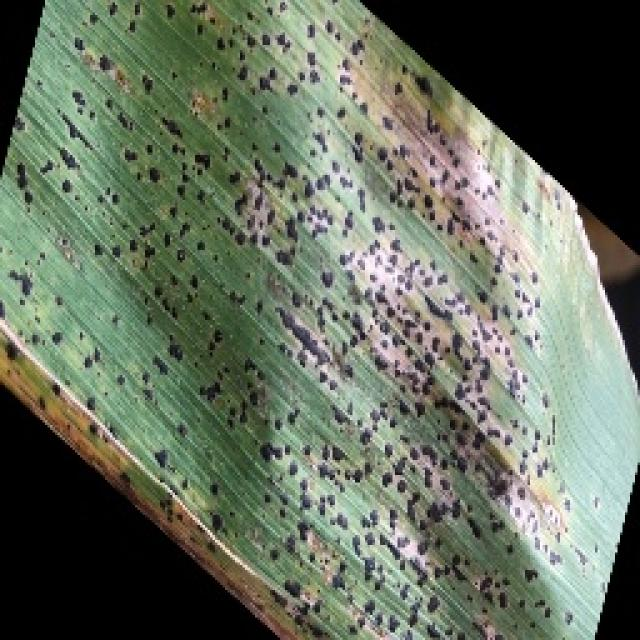Tar_Spot: (111, 70, 596, 591)
